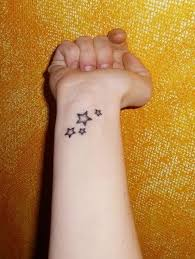hand: (34, 26, 153, 119)
